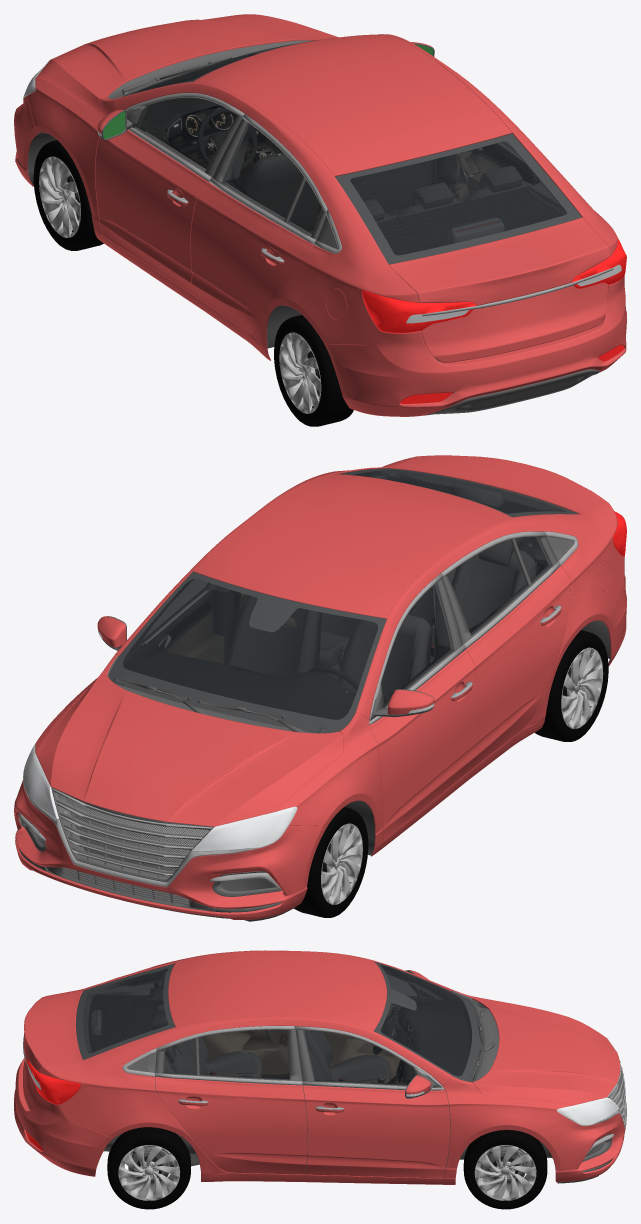
The model's file is traffic_sedan.glb.
3 renders of one model, top to bottom at view 1: azimuth 30°, elevation 25°; view 2: azimuth 150°, elevation 25°; view 3: azimuth 270°, elevation 25°, orthographic. The views are drawn at different scales.
Parts seen in each view (by area): view 1: Body, Wheel_RL, Wheel_FL; view 2: Body, Wheel_RL, Wheel_FL; view 3: Body, Wheel_RR, Wheel_FR.
Boxes of the visible parts, box(x1,y1,x2,y2) form: Body: box(14, 14, 626, 416); Wheel_RL: box(274, 315, 353, 426); Wheel_FL: box(33, 140, 103, 250); Body: box(14, 455, 626, 921); Wheel_RL: box(535, 630, 608, 741); Wheel_FL: box(294, 807, 368, 917); Body: box(14, 950, 626, 1184); Wheel_RR: box(107, 1127, 190, 1209); Wheel_FR: box(463, 1130, 547, 1209).
Bounding box in the file's own units: 2.26 × 1.56 × 4.85.
Materials: 17 (4 with a texture image).
